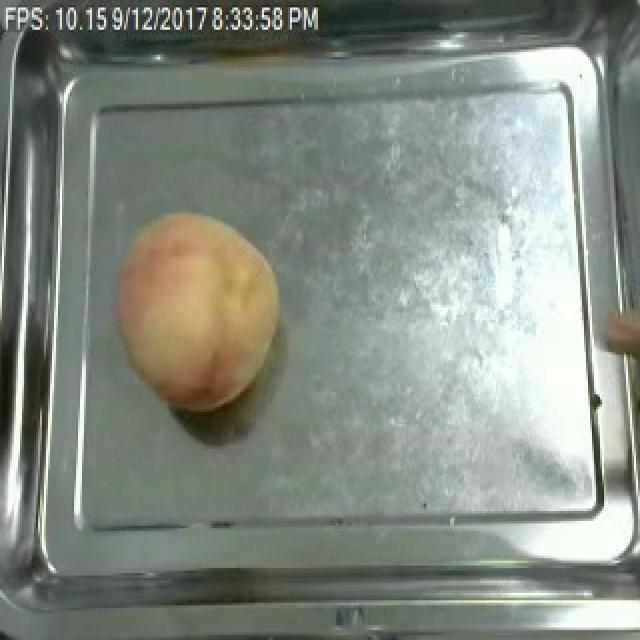Fruit: (108, 203, 290, 417)
